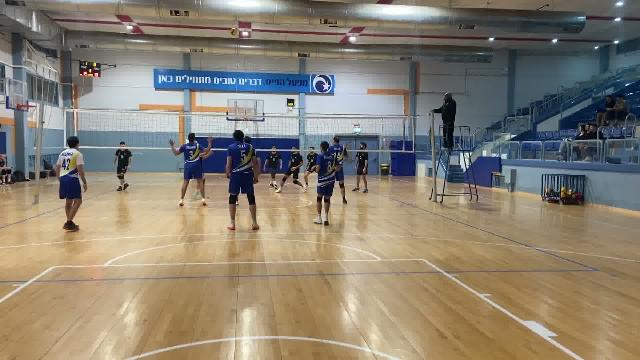ball: (227, 27, 241, 37)
